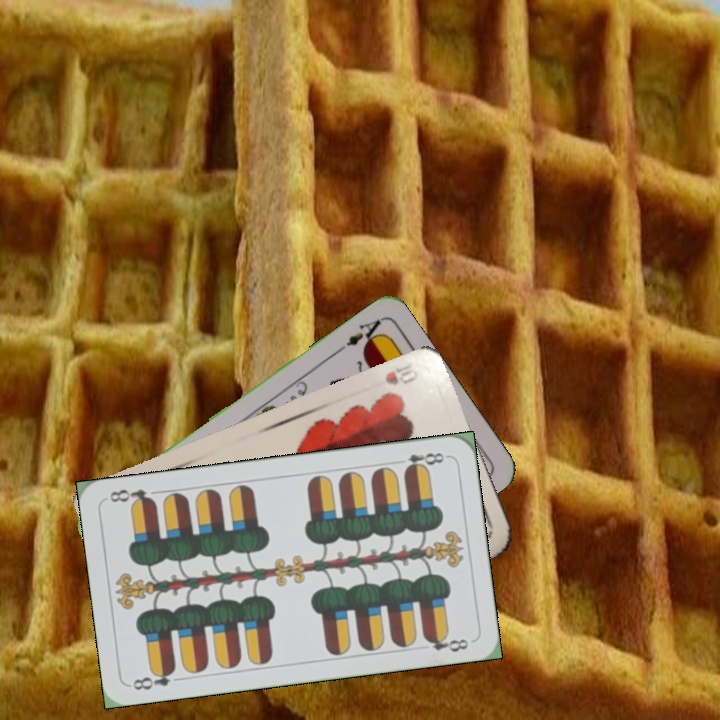E8: (129, 664, 178, 693), (400, 448, 450, 474)
EA: (334, 316, 386, 355)
H10: (381, 360, 421, 388)
